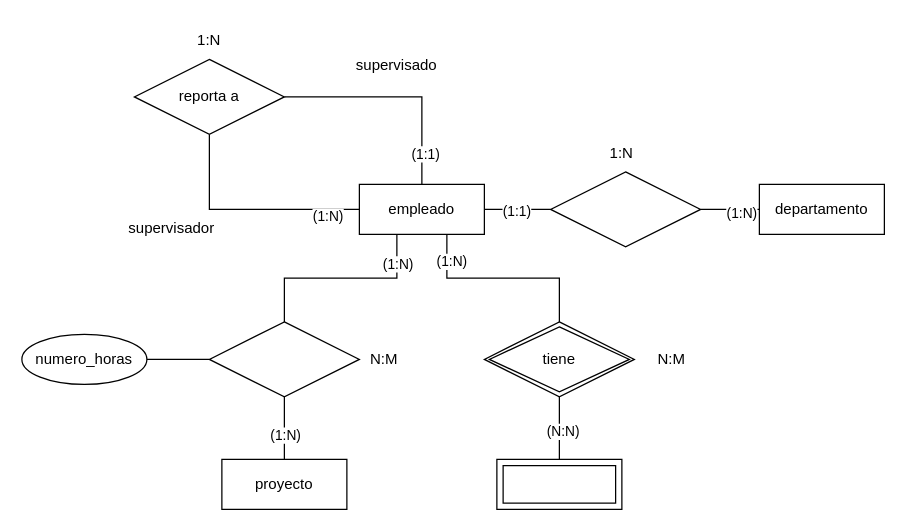
The diagram is 906 pixels wide and 531 high, and some of its shapes have lost their labels. The centre of each missing label's shape, as x and y in pixels:
historial_salario: point 559,483
pertenece: point 625,209
trabaja: point 283,359
